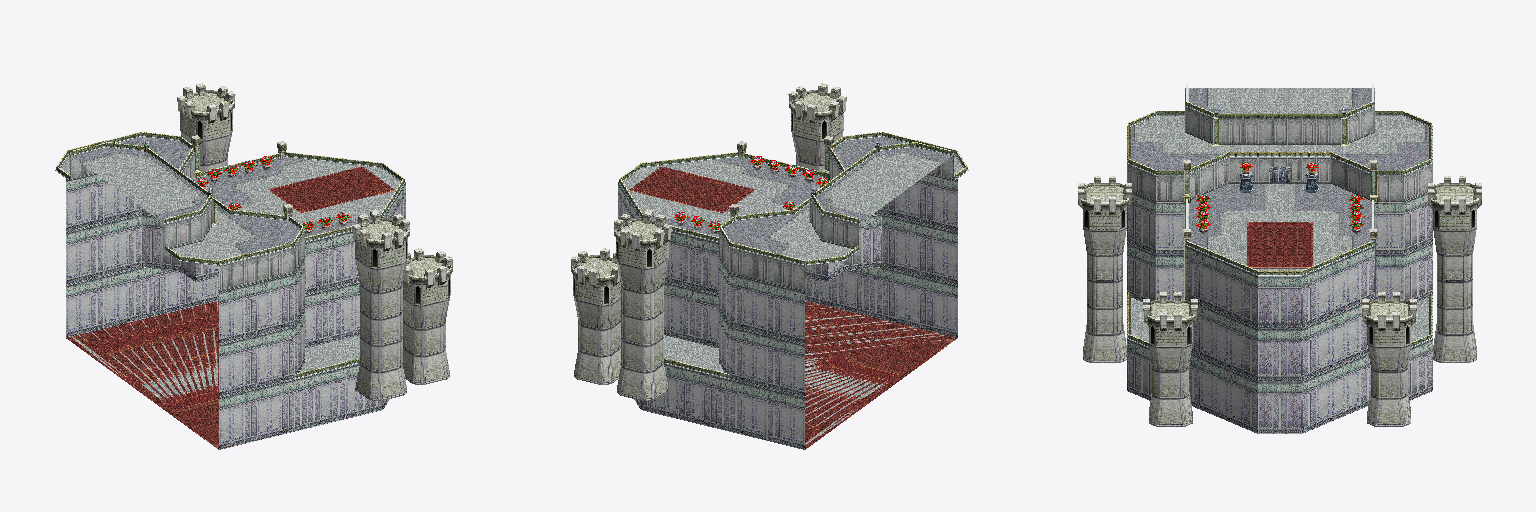
The picture shows the model from 3 angles: view 1: azimuth 30°, elevation 25°; view 2: azimuth 150°, elevation 25°; view 3: azimuth 270°, elevation 25°; orthographic projection.
Visible parts, largest first — view 1: Object.008; view 2: Object.008; view 3: Object.008.
Boxes of the visible parts, x1,y1,x2,y2 form: Object.008: [55, 83, 452, 449]; Object.008: [571, 83, 968, 449]; Object.008: [1078, 84, 1481, 433].
Size of the model in its own units: 44 by 33.42 by 55.5.
15 materials, 14 textured.